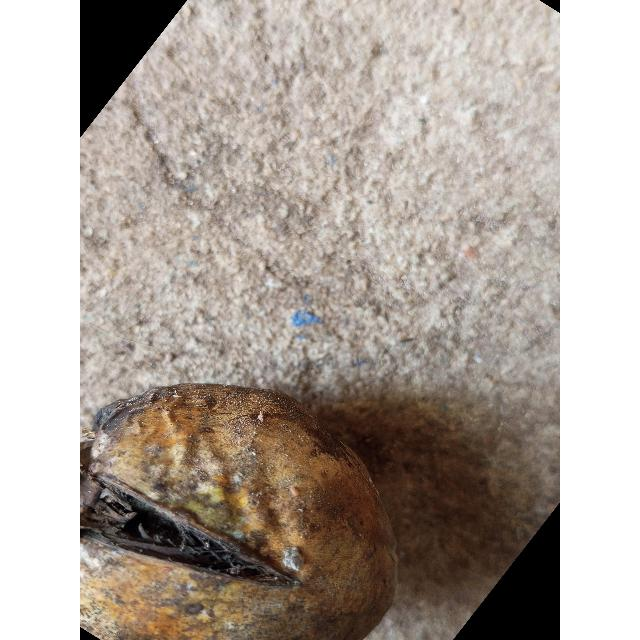damaged: (80, 384, 397, 640)
